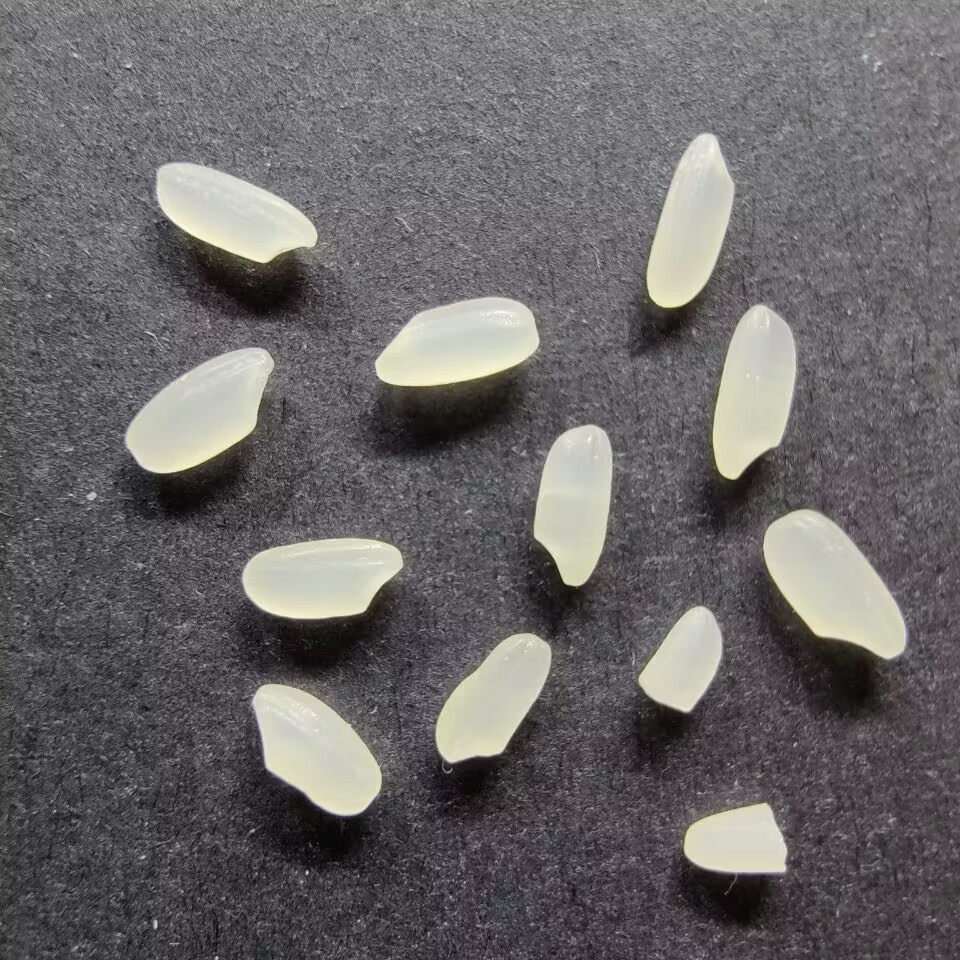broken: (638, 604, 725, 715), (682, 803, 787, 877)
rice: (761, 507, 909, 659), (123, 346, 275, 473), (250, 682, 385, 817), (154, 161, 317, 265), (645, 131, 736, 309), (434, 632, 551, 765), (712, 304, 799, 482), (371, 297, 540, 388), (240, 536, 403, 620), (532, 423, 614, 587)
